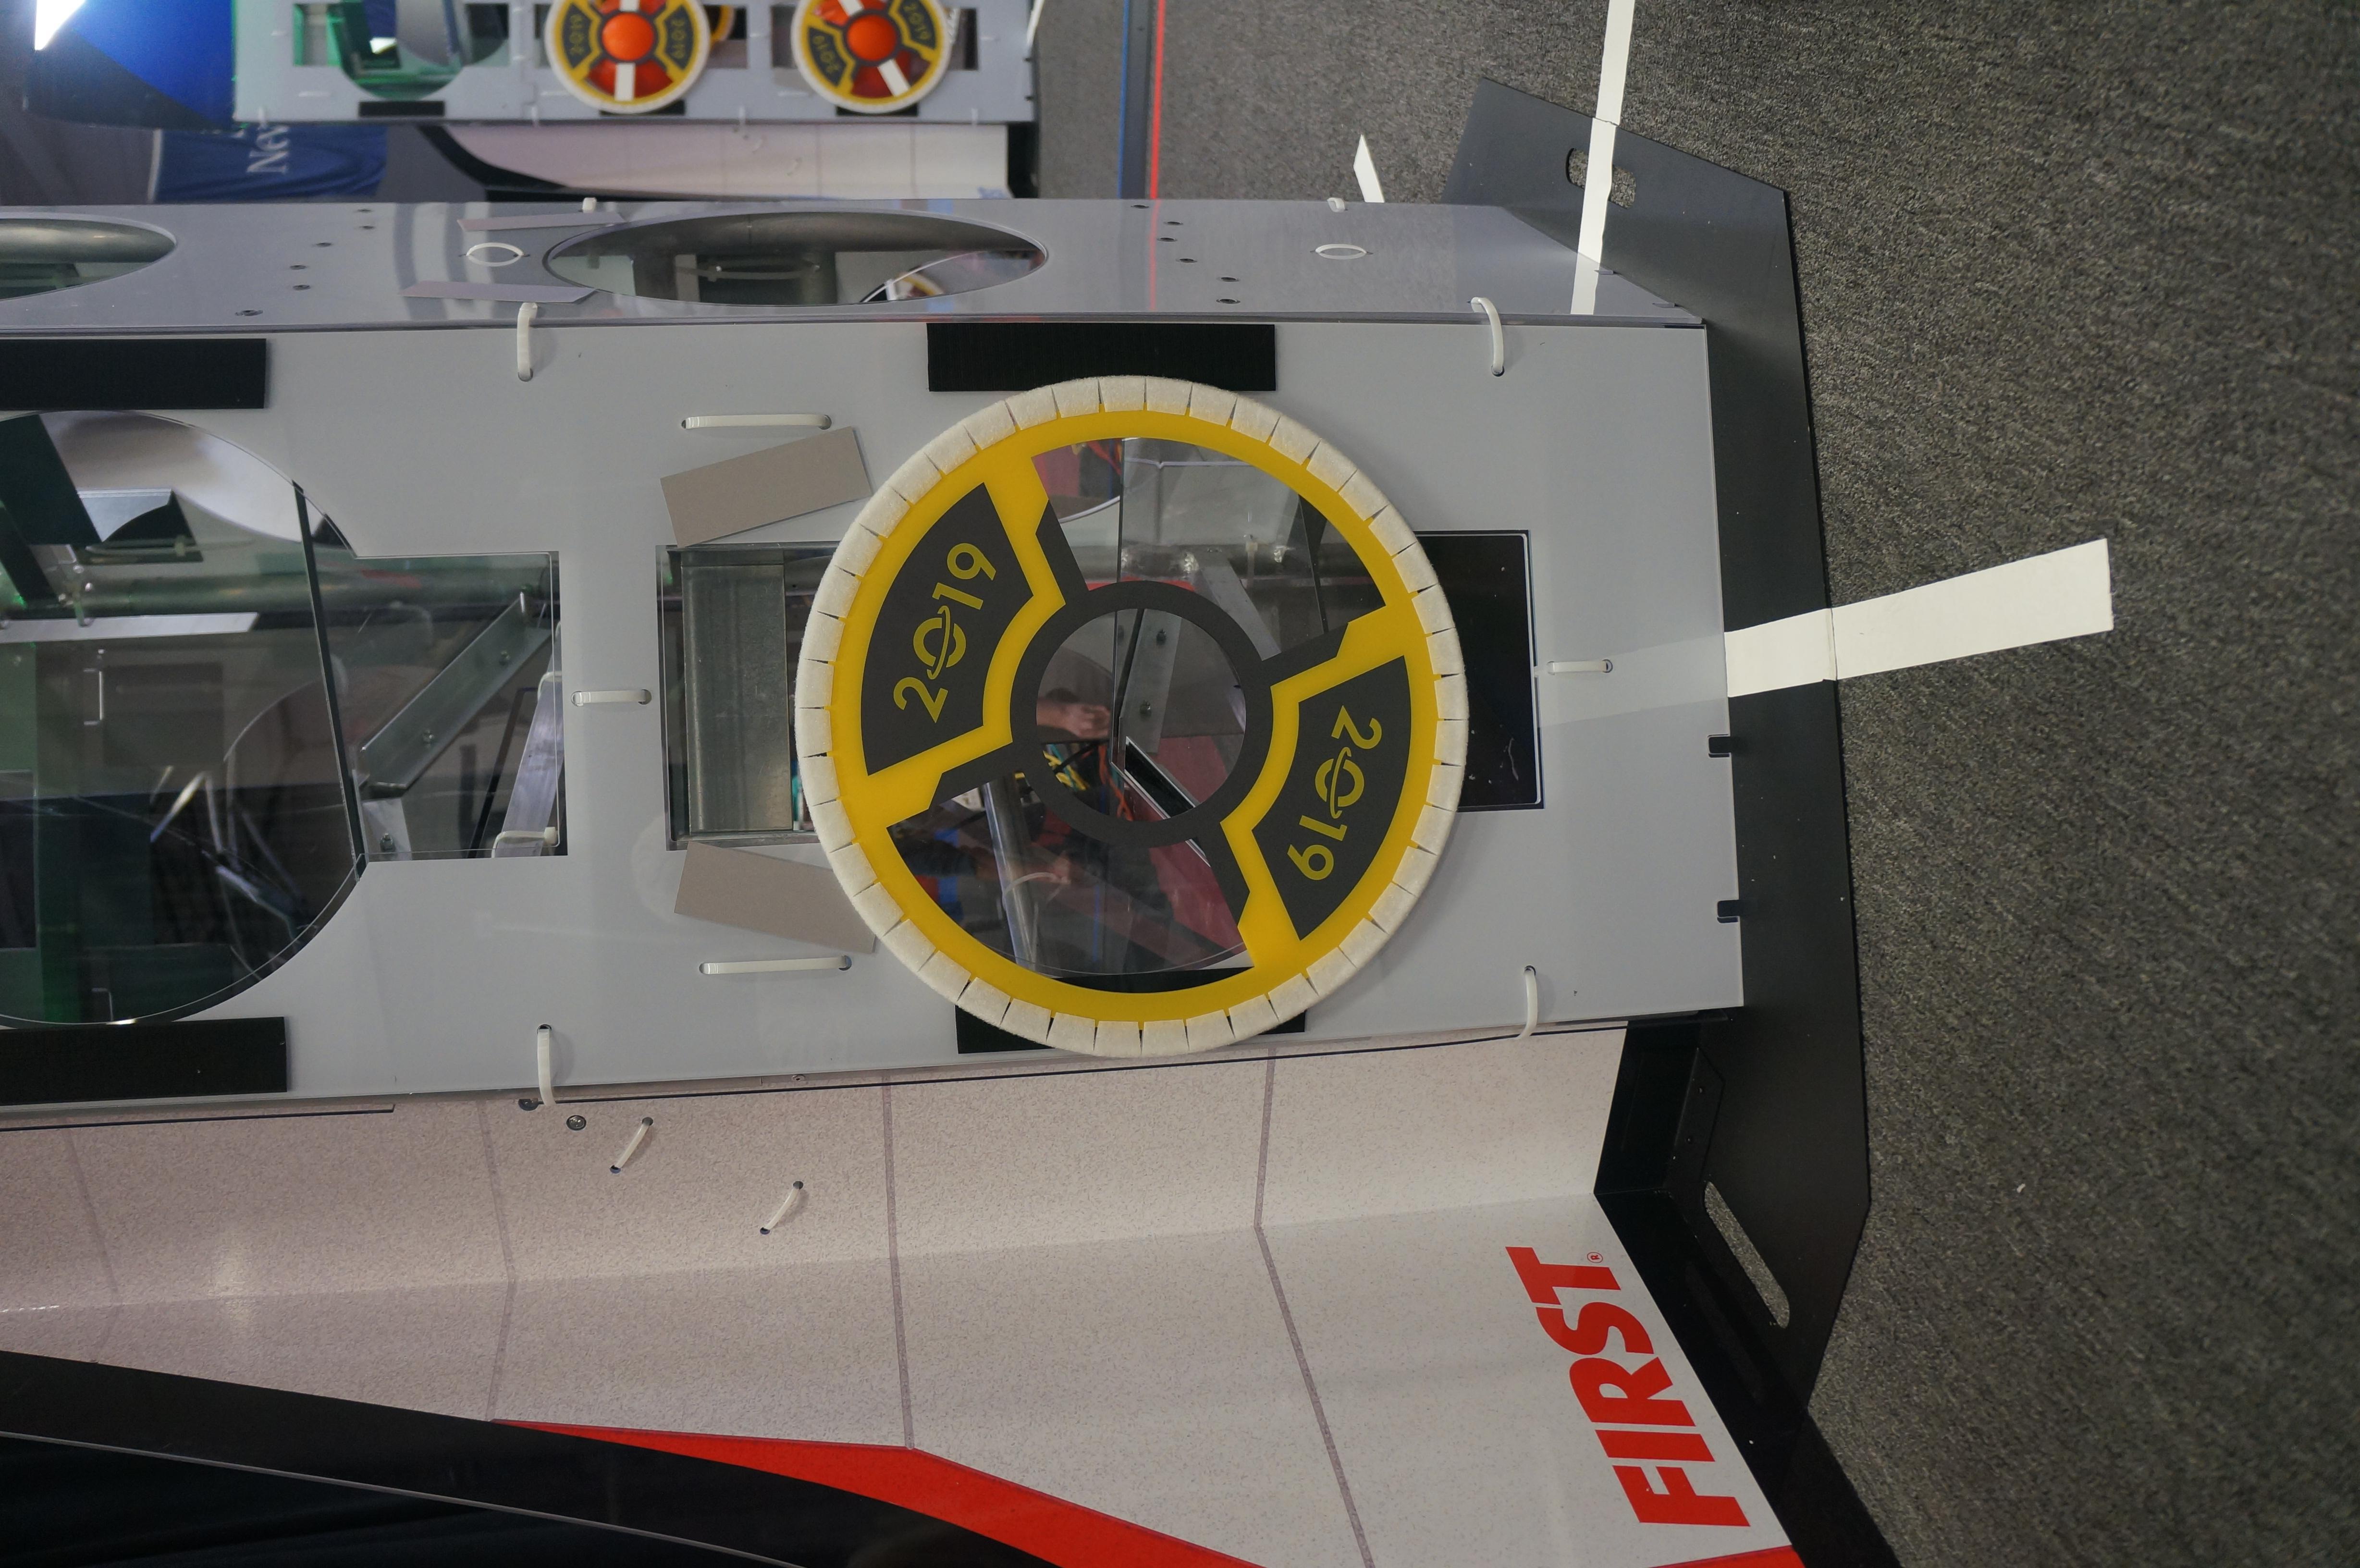Ball: (579, 0, 682, 93), (824, 0, 917, 96)
Hatch: (798, 373, 1471, 1057), (542, 0, 712, 115), (791, 0, 948, 117)
Tape: (658, 422, 875, 555), (672, 838, 880, 952), (406, 276, 595, 306), (455, 206, 628, 236)
